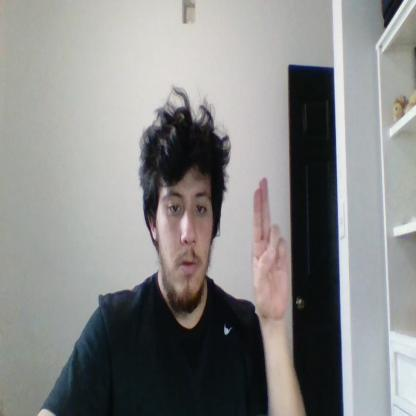U: (251, 176, 289, 320)
